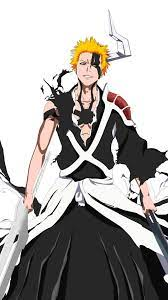Ichigo: (70, 38, 117, 85)
